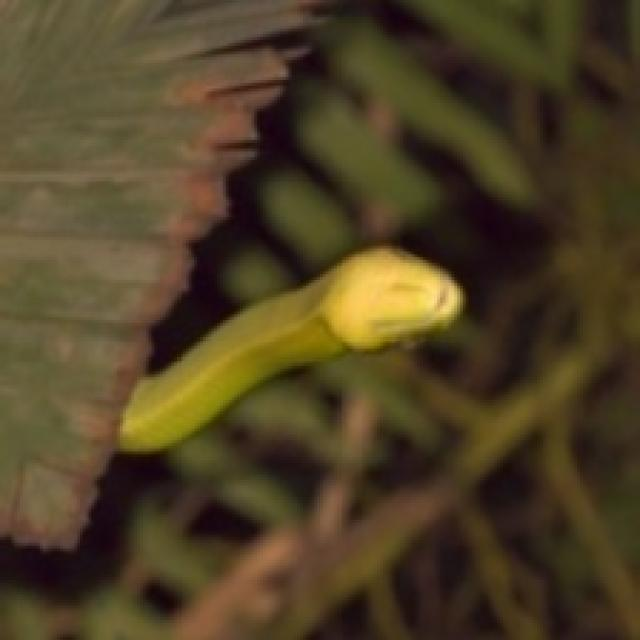red-tailed green ratsnake: (117, 246, 460, 449)
